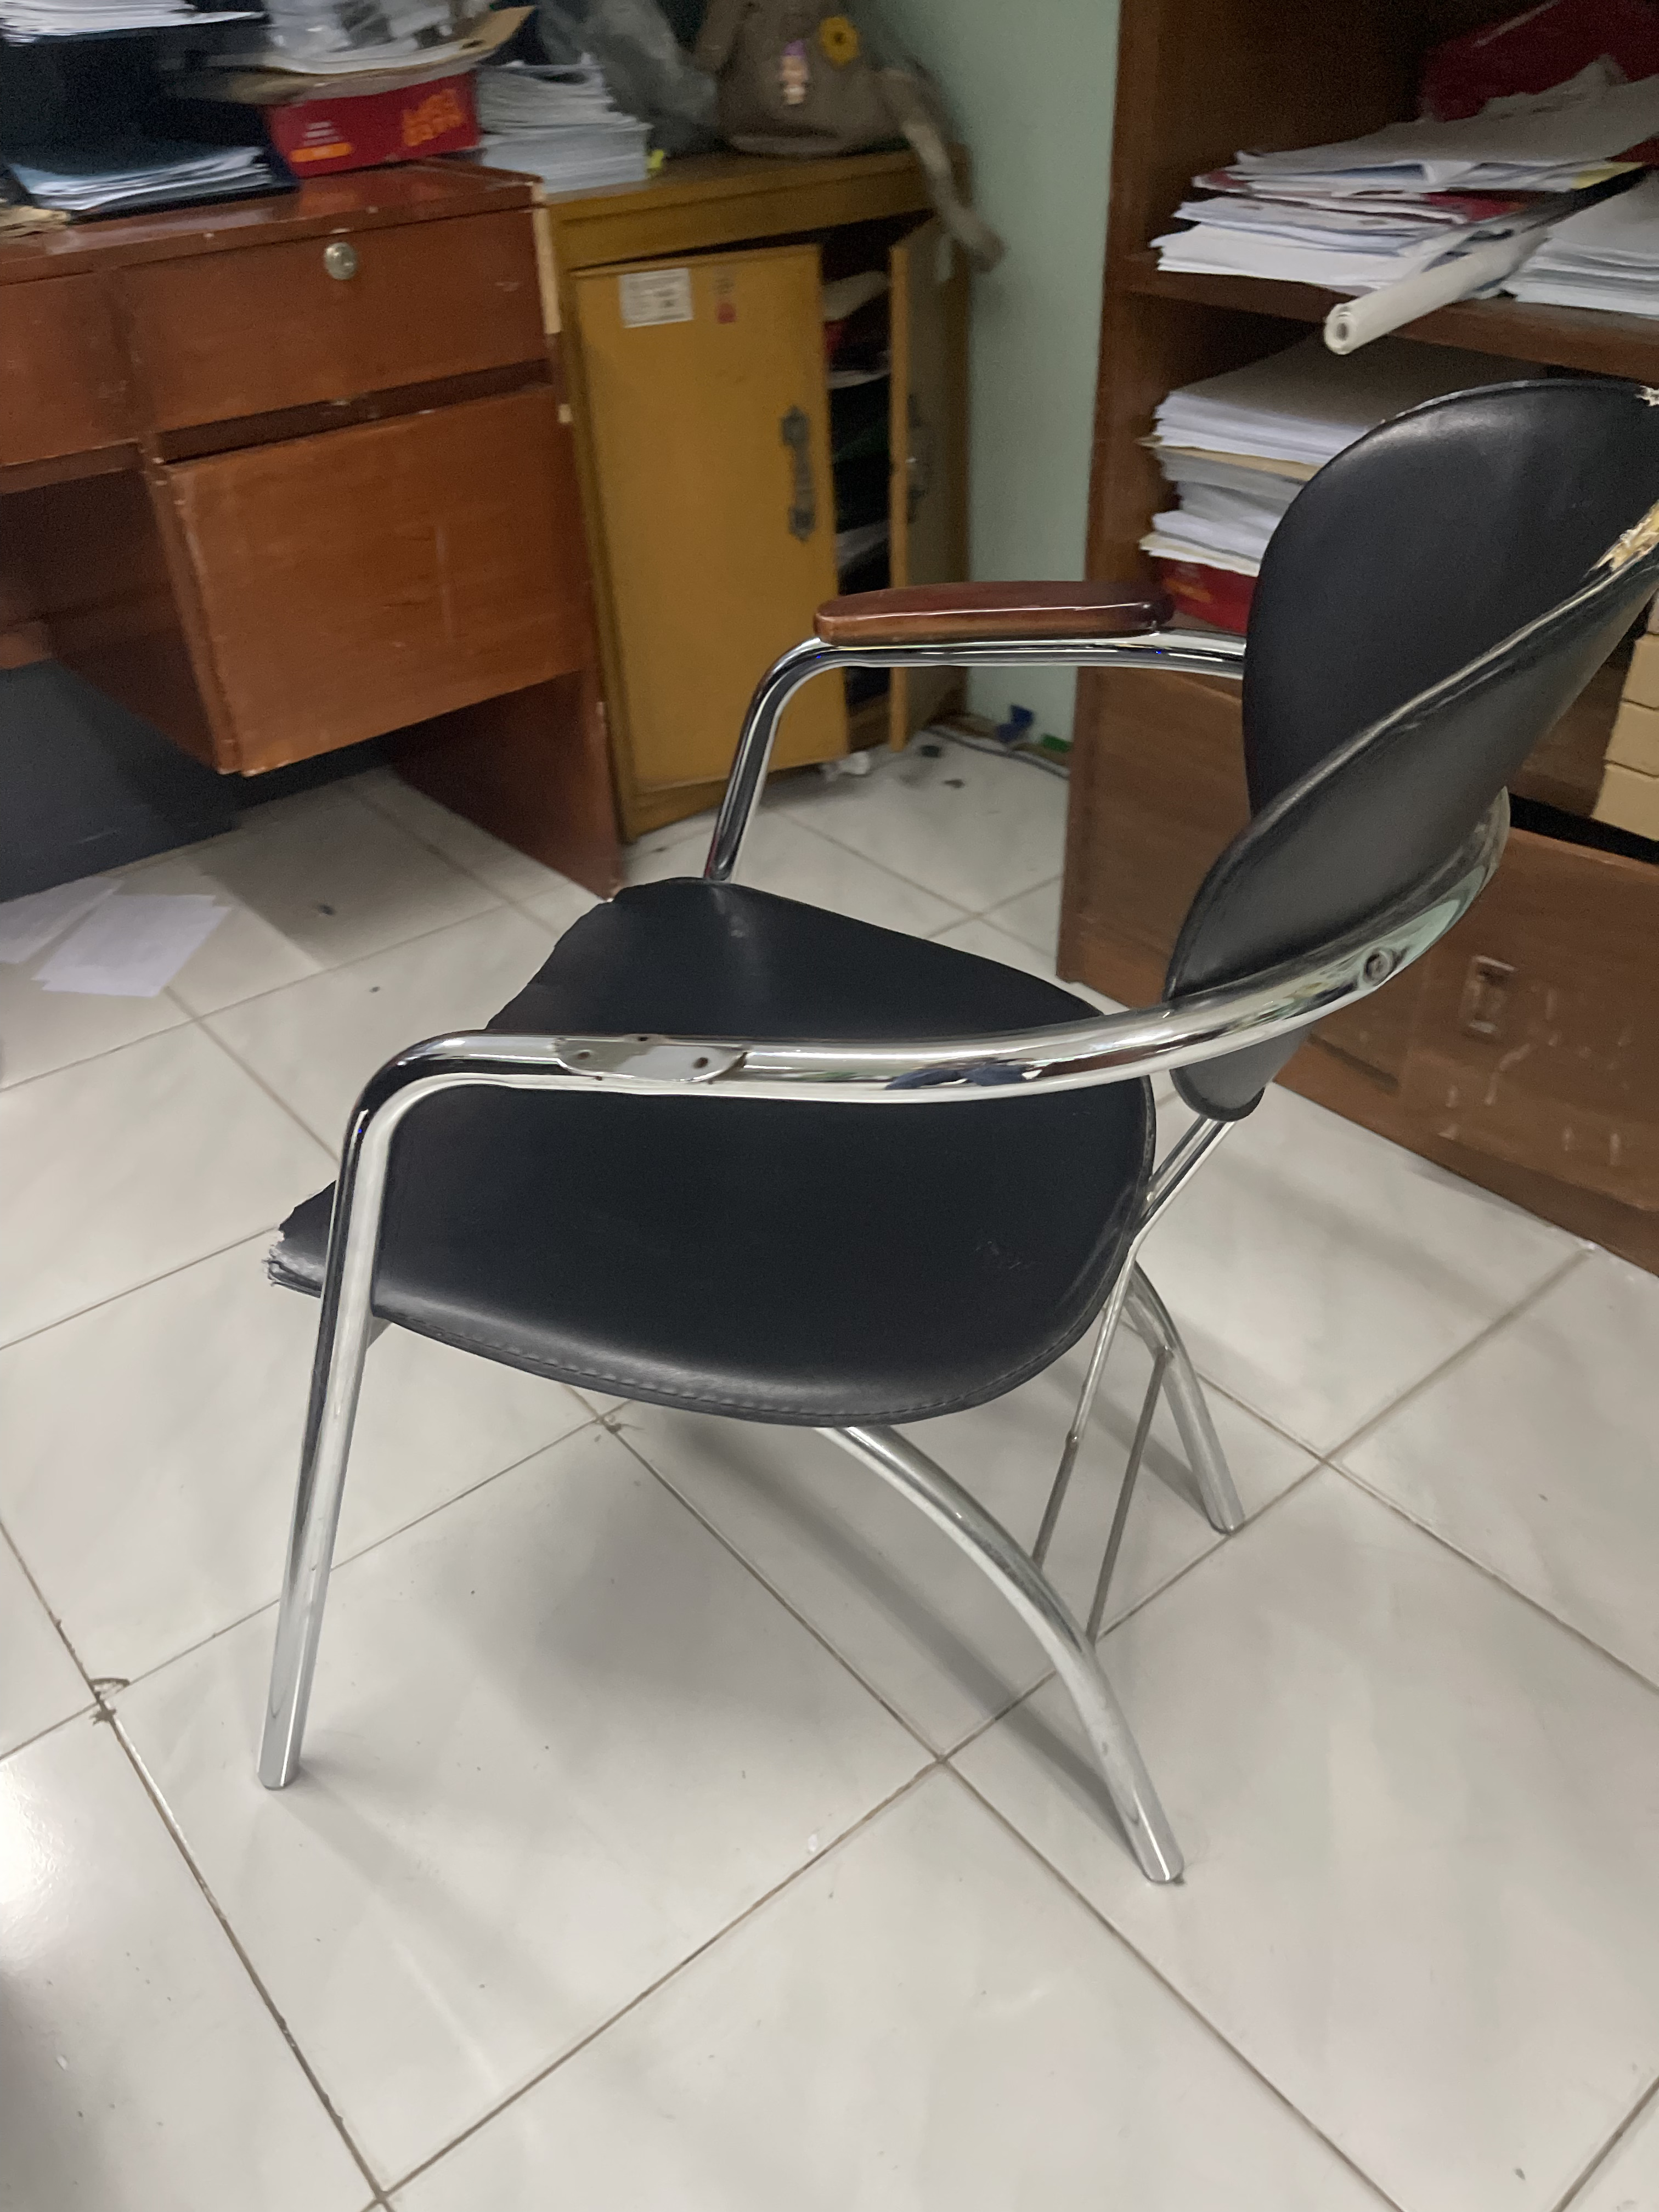chair1: (263, 376, 1659, 1890)
